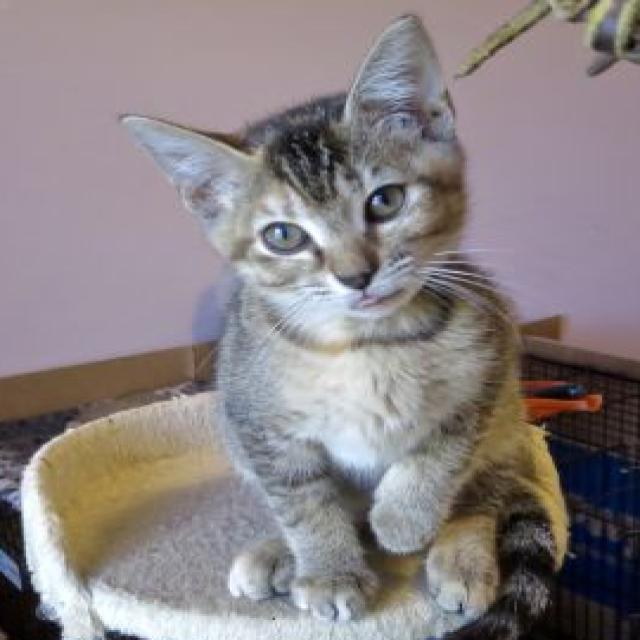Abyssinian: (106, 6, 574, 640)
